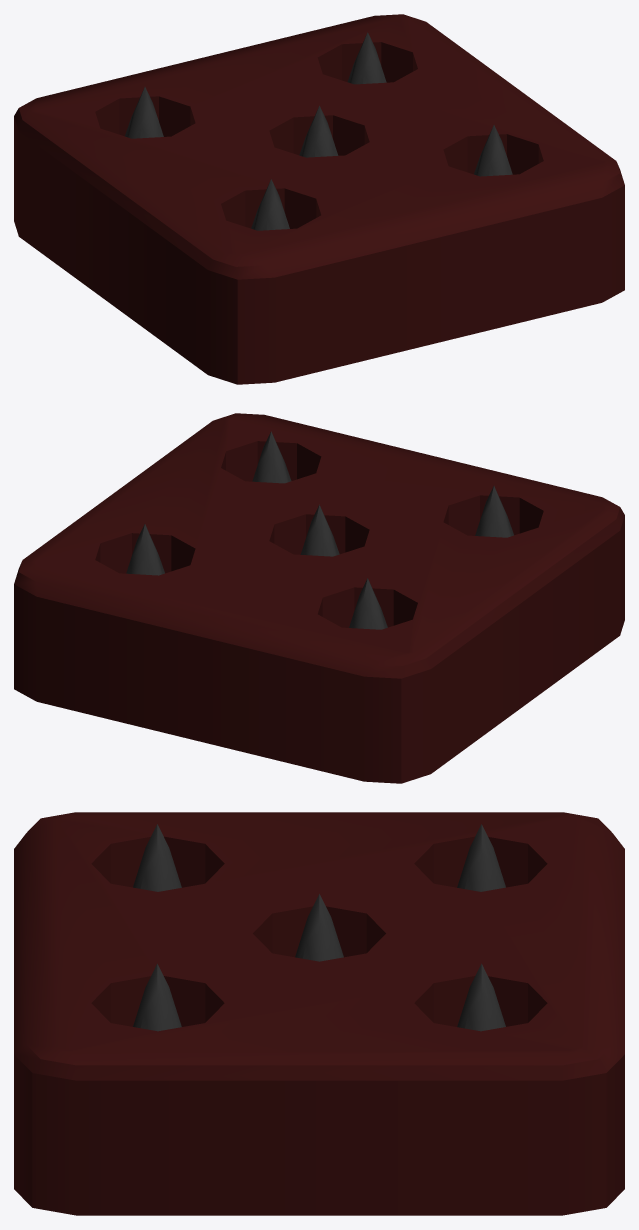
The model's file is Hazard_SpikeTrap.obj.
The picture shows the model from 3 angles, top to bottom: view 1: azimuth 30°, elevation 25°; view 2: azimuth 150°, elevation 25°; view 3: azimuth 270°, elevation 25°; orthographic projection. The views are drawn at different scales.
Visible parts, largest first — view 1: Hazard_SpikeTrap_Cube.183; view 2: Hazard_SpikeTrap_Cube.183; view 3: Hazard_SpikeTrap_Cube.183.
Boxes of the visible parts, x1,y1,x2,y2 form: Hazard_SpikeTrap_Cube.183: (14,14,624,384); Hazard_SpikeTrap_Cube.183: (14,413,624,783); Hazard_SpikeTrap_Cube.183: (14,812,624,1215).
Bounding box in the file's own units: 2 × 0.6968 × 2.
